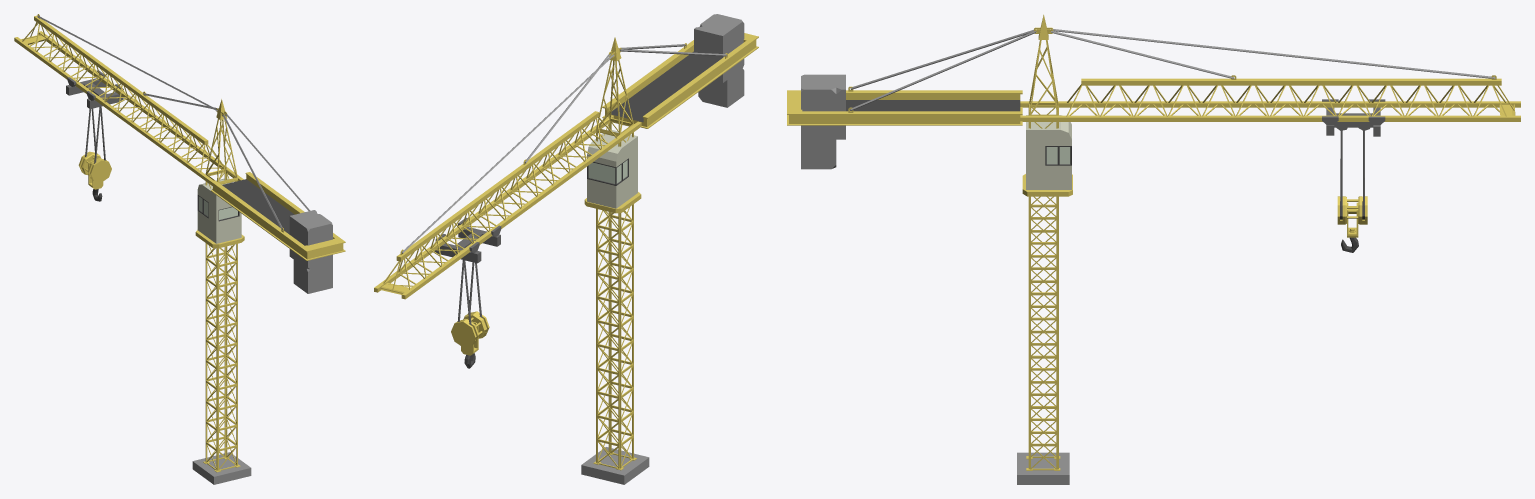
The model's file is crane.glb.
3 views of the same model, side by side, from view 1: azimuth 30°, elevation 25°; view 2: azimuth 150°, elevation 25°; view 3: azimuth 270°, elevation 25° (orthographic). The views are drawn at different scales.
Visible parts, largest first — view 1: Cube.001, Crane_Cylinder; view 2: Cube.001, Crane_Cylinder; view 3: Cube.001, Crane_Cylinder.
Part boxes in pixels (x1,y1,x2,y2): Cube.001: (14, 14, 345, 472); Crane_Cylinder: (37, 15, 332, 484); Cube.001: (374, 33, 758, 470); Crane_Cylinder: (402, 14, 744, 484); Cube.001: (787, 14, 1520, 470); Crane_Cylinder: (801, 29, 1495, 484).
Size of the model in its own units: 1.6 by 14.61 by 21.13.
